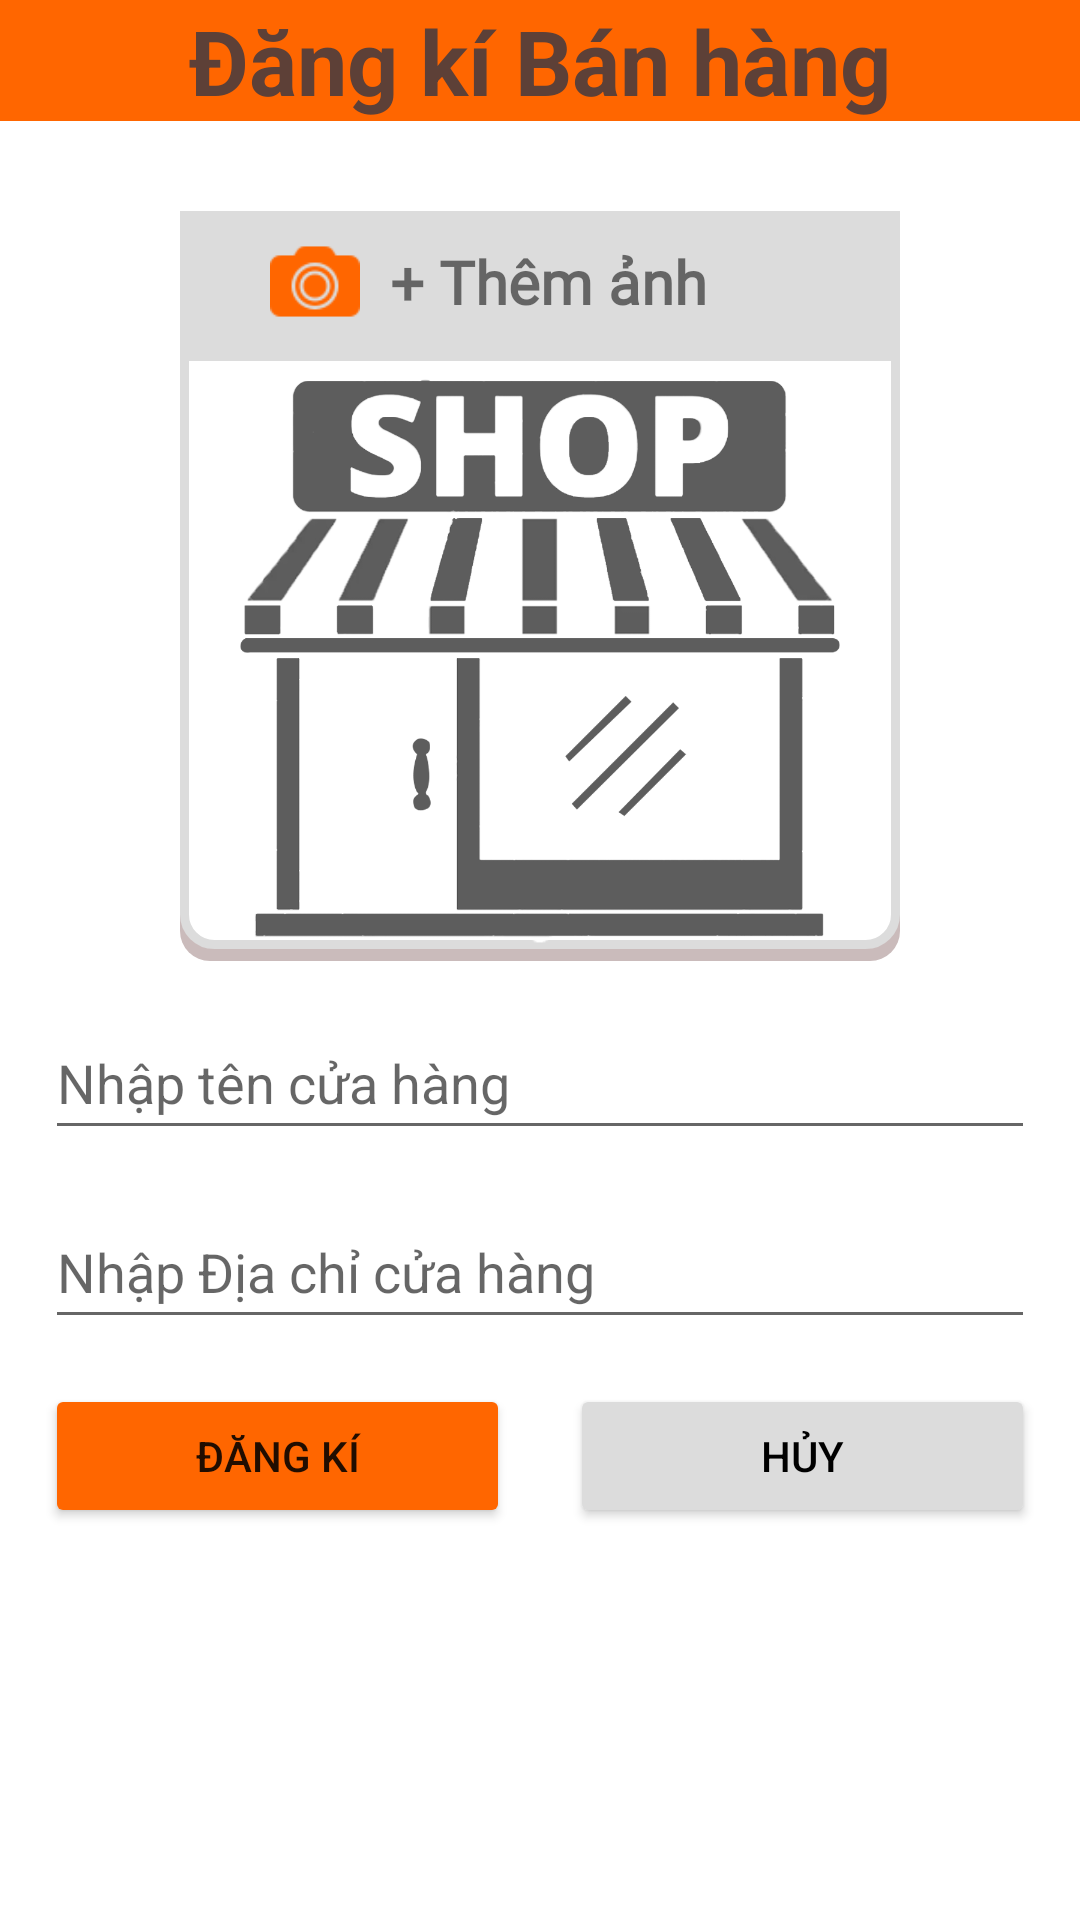

Icon bounding boxes for this 1080px x 1920px phone screenshot, format bbox(x1, y1, x2, y2):
camera: bbox(270, 246, 360, 317)
